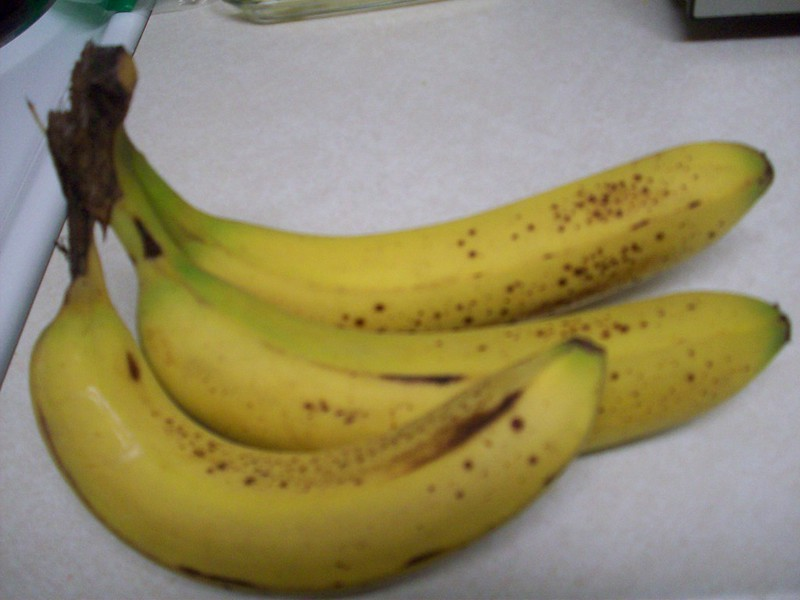banana: (55, 173, 796, 468), (33, 285, 615, 582)
